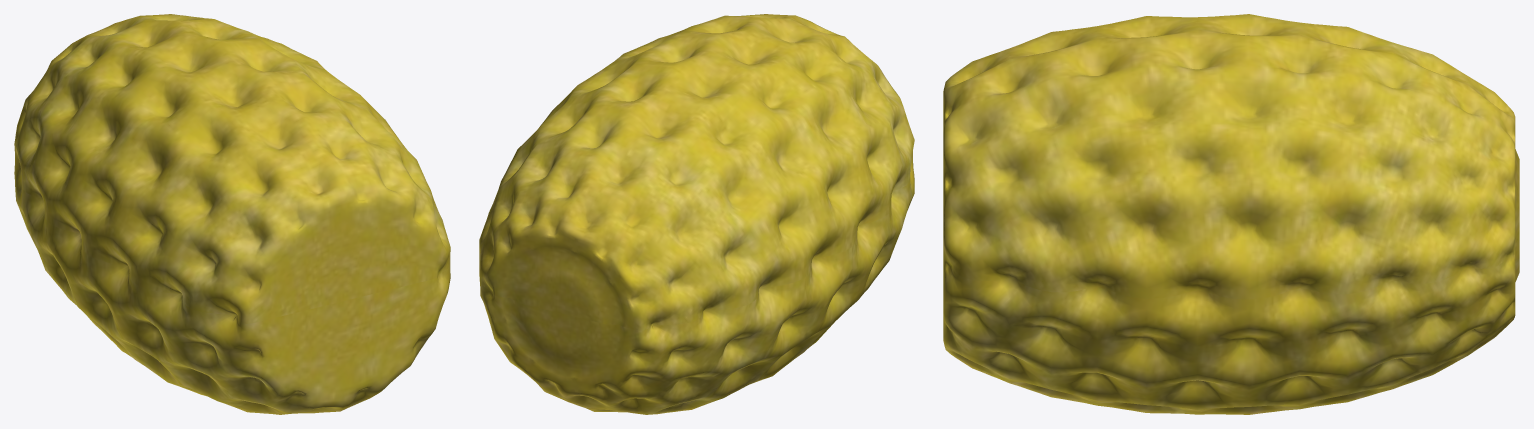
The model's file is PineappleFlesh.obj.
3 renders of one model, left to right at view 1: azimuth 30°, elevation 25°; view 2: azimuth 150°, elevation 25°; view 3: azimuth 270°, elevation 25°, orthographic. The views are drawn at different scales.
Visible parts, largest first — view 1: PineappleFlesh; view 2: PineappleFlesh; view 3: PineappleFlesh.
Boxes of the visible parts, x1,y1,x2,y2 form: PineappleFlesh: [14, 14, 450, 414]; PineappleFlesh: [479, 14, 914, 414]; PineappleFlesh: [943, 14, 1519, 414].
Size of the model in its own units: 0.1325 by 0.1342 by 0.192.
1 material, 1 textured.
